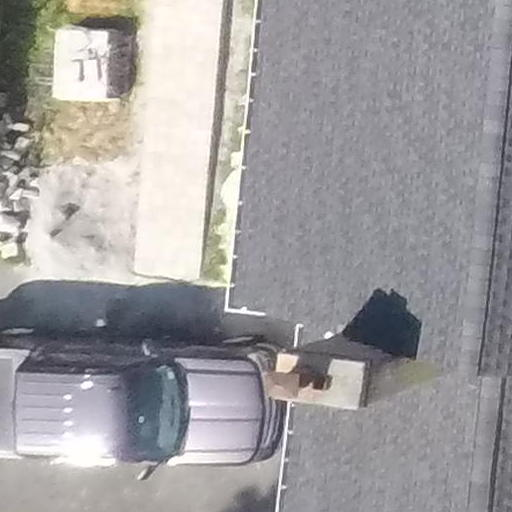car: (1, 321, 301, 493)
